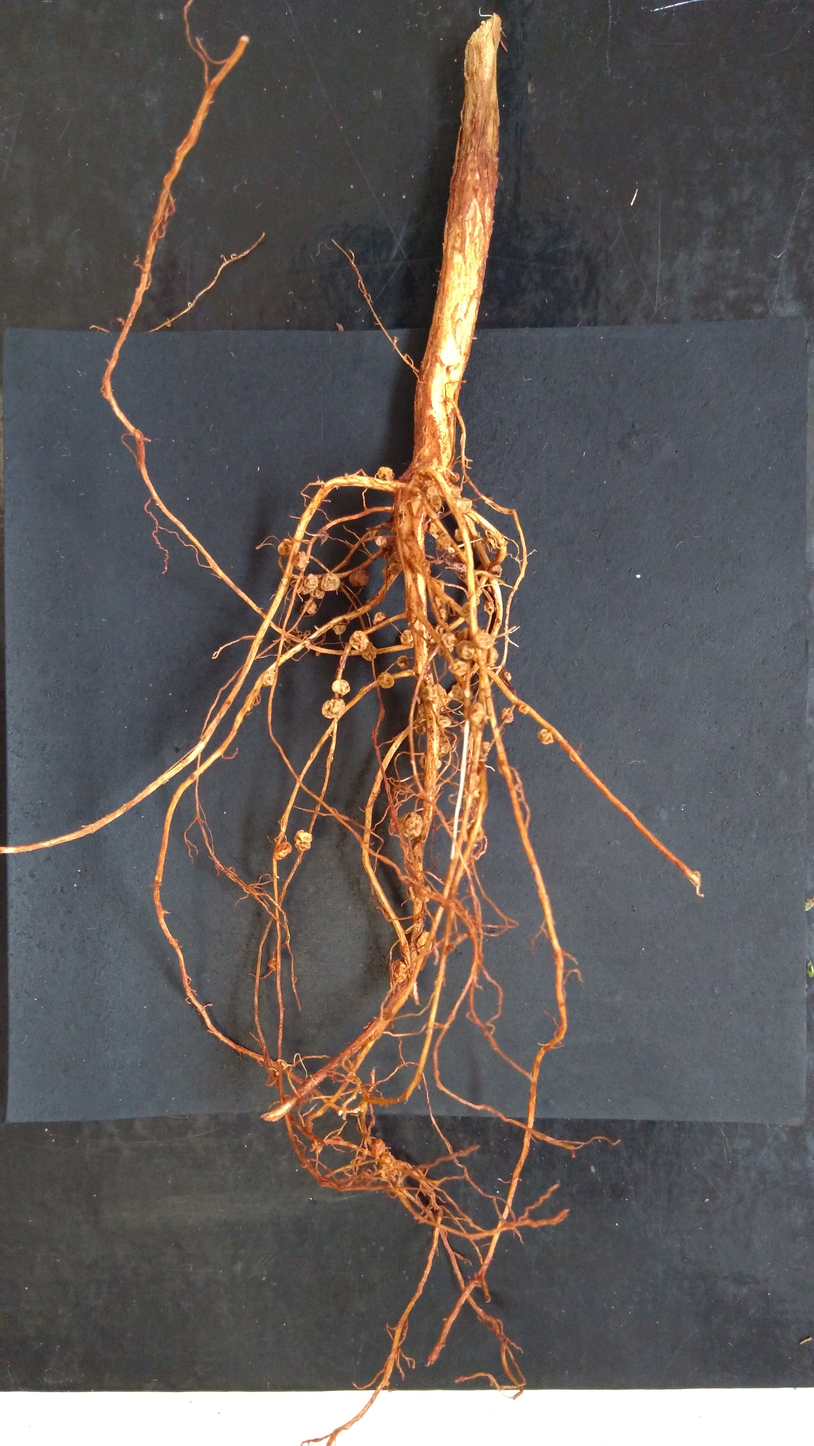nodule: (417, 681, 450, 720), (400, 811, 425, 841), (320, 697, 348, 721), (407, 617, 433, 642), (471, 646, 500, 668), (391, 958, 411, 988), (320, 570, 344, 593), (474, 629, 497, 652), (415, 931, 437, 955), (425, 486, 444, 513), (292, 829, 314, 852), (460, 601, 479, 627), (348, 630, 370, 652), (347, 568, 371, 588), (467, 701, 485, 725), (447, 657, 468, 677), (452, 496, 473, 516), (330, 678, 352, 697), (360, 641, 379, 663), (463, 823, 485, 842), (434, 531, 453, 552), (375, 465, 397, 483), (272, 842, 292, 861), (376, 670, 395, 690), (419, 754, 442, 770), (457, 640, 475, 660), (537, 728, 555, 746), (429, 595, 447, 613), (293, 551, 309, 571), (331, 615, 347, 635), (437, 735, 450, 759), (440, 632, 458, 649), (276, 539, 293, 556), (488, 563, 505, 580), (260, 670, 276, 688), (500, 705, 514, 724), (303, 573, 319, 589), (370, 610, 388, 624), (436, 714, 452, 729), (451, 684, 465, 701), (400, 629, 414, 644), (372, 1139, 386, 1154), (303, 600, 317, 614), (267, 957, 281, 971), (397, 655, 410, 670), (387, 563, 402, 576), (421, 686, 433, 701), (482, 601, 495, 614), (310, 588, 325, 599), (517, 704, 530, 716), (414, 722, 426, 735), (427, 522, 438, 536), (375, 535, 388, 546), (449, 472, 461, 483), (438, 608, 449, 620), (301, 586, 314, 596), (381, 565, 390, 579), (454, 528, 463, 542), (480, 741, 491, 751), (503, 669, 512, 681)
